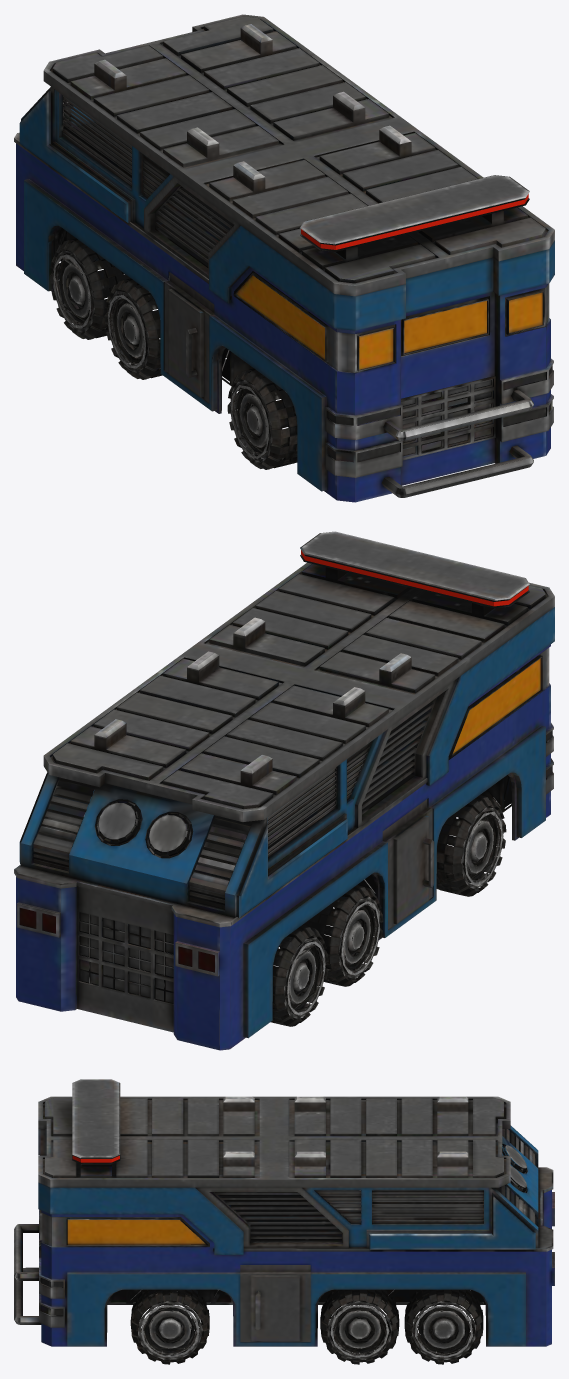
The model's file is police_assault.glb.
The picture shows the model from 3 angles, top to bottom: view 1: azimuth 30°, elevation 25°; view 2: azimuth 150°, elevation 25°; view 3: azimuth 270°, elevation 25°; orthographic projection. The views are drawn at different scales.
Parts seen in each view (by area): view 1: body, wheel_fr, wheel_rear, wheel_mid, lightbar; view 2: body, wheel_fr, wheel_mid, wheel_rear, lightbar; view 3: body, wheel_rear, wheel_mid, wheel_fl.
Part boxes in pixels (left/top/right/bottom): body: left=14, top=14, right=554, bottom=502; wheel_fr: left=227, top=368, right=297, bottom=469; wheel_rear: left=50, top=238, right=130, bottom=339; wheel_mid: left=104, top=278, right=162, bottom=379; lightbar: left=301, top=194, right=528, bottom=249; body: left=14, top=531, right=554, bottom=1050; wheel_fr: left=436, top=795, right=506, bottom=896; wheel_mid: left=303, top=885, right=383, bottom=986; wheel_rear: left=270, top=925, right=328, bottom=1026; lightbar: left=301, top=550, right=528, bottom=606; body: left=14, top=1079, right=554, bottom=1346; wheel_rear: left=404, top=1289, right=483, bottom=1364; wheel_mid: left=320, top=1289, right=399, bottom=1364; wheel_fl: left=130, top=1289, right=209, bottom=1364.
Size of the model in its own units: 7.24 by 7.51 by 17.99.
Materials: 2 (1 with a texture image).
